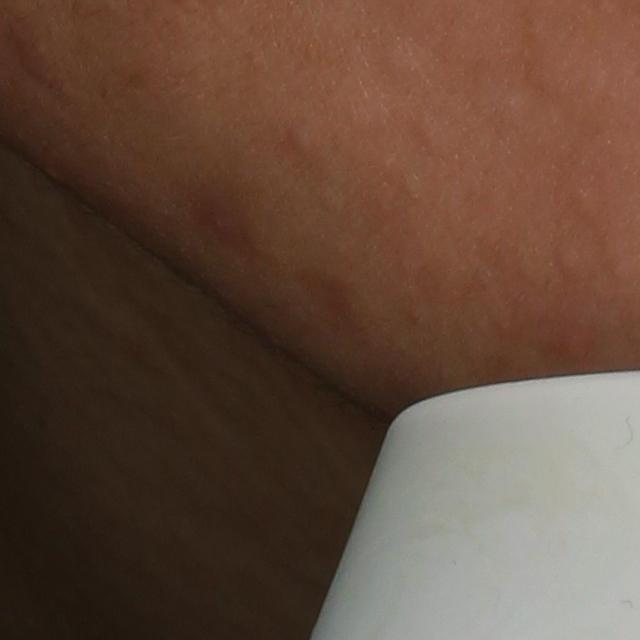comedo: (379, 40, 422, 88), (413, 112, 451, 156), (285, 122, 318, 160), (550, 239, 582, 275)
